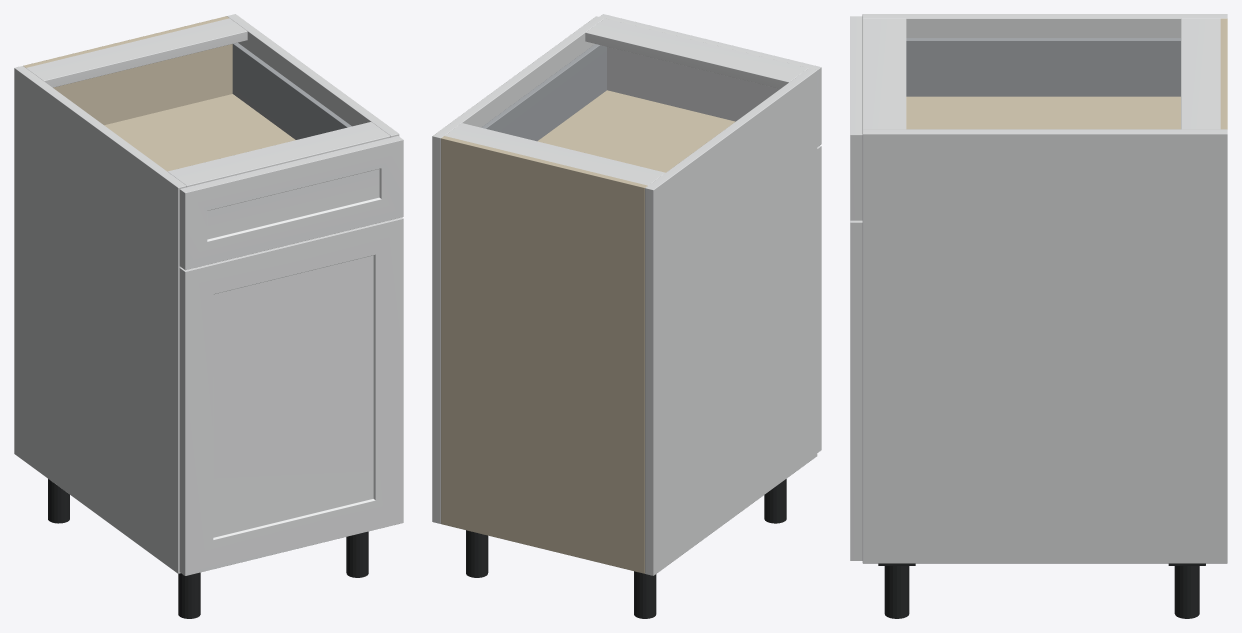
The model's file is PLY-WSS-B18.glb.
3 renders of one model, left to right at view 1: azimuth 30°, elevation 25°; view 2: azimuth 150°, elevation 25°; view 3: azimuth 270°, elevation 25°, orthographic. The views are drawn at different scales.
Parts seen in each view (by area): view 1: Shaker door, Carcass left, Drawer front, Drawer bottom, Drawer back, Top support rail, Metal drawer side.001, Top support rail.001, Carcass right, Adjustable foot.001, Adjustable foot.003, Adjustable foot (+1 smaller); view 2: Carcass back, Carcass left, Drawer bottom, Drawer front, Carcass right, Top support rail.001, Metal drawer side.001, Top support rail, Shaker door, Adjustable foot, Adjustable foot.002, Adjustable foot.001; view 3: Carcass right, Metal drawer side, Drawer bottom, Carcass left, Top support rail.001, Top support rail, Shaker door, Drawer front, Adjustable foot.002, Adjustable foot.003, Carcass back.
Boxes of the visible parts, box(x1,y1,x2,y2) form: Shaker door: box(179, 217, 403, 575); Carcass left: box(14, 66, 186, 573); Drawer front: box(179, 136, 403, 270); Drawer bottom: box(104, 94, 295, 171); Drawer back: box(53, 44, 232, 125); Top support rail: box(26, 18, 247, 87); Metal drawer side.001: box(232, 42, 351, 139); Top support rail.001: box(167, 122, 390, 187); Carcass right: box(227, 14, 399, 137); Adjustable foot.001: box(178, 572, 200, 618); Adjustable foot.003: box(346, 531, 368, 577); Adjustable foot: box(48, 479, 69, 523); Carcass back: box(441, 136, 647, 573); Carcass left: box(645, 68, 817, 575); Drawer bottom: box(537, 90, 735, 172); Drawer front: box(599, 14, 821, 146); Carcass right: box(432, 16, 604, 523); Top support rail.001: box(585, 18, 808, 88); Metal drawer side.001: box(481, 44, 606, 141); Top support rail: box(444, 123, 665, 185); Shaker door: box(817, 145, 821, 452); Adjustable foot: box(634, 571, 656, 618); Adjustable foot.002: box(466, 530, 488, 577); Adjustable foot.001: box(764, 479, 786, 523); Carcass right: box(862, 129, 1227, 563); Metal drawer side: box(906, 38, 1180, 96); Drawer bottom: box(906, 96, 1180, 129); Carcass left: box(862, 14, 1227, 37); Top support rail.001: box(862, 18, 906, 129); Top support rail: box(1181, 18, 1220, 129); Shaker door: box(850, 220, 862, 560); Drawer front: box(850, 16, 862, 220); Adjustable foot.002: box(1174, 566, 1199, 618); Adjustable foot.003: box(884, 566, 909, 618); Carcass back: box(1220, 18, 1227, 129).
Bounding box in the file's own units: 0.4572 × 0.8763 × 0.6064.
